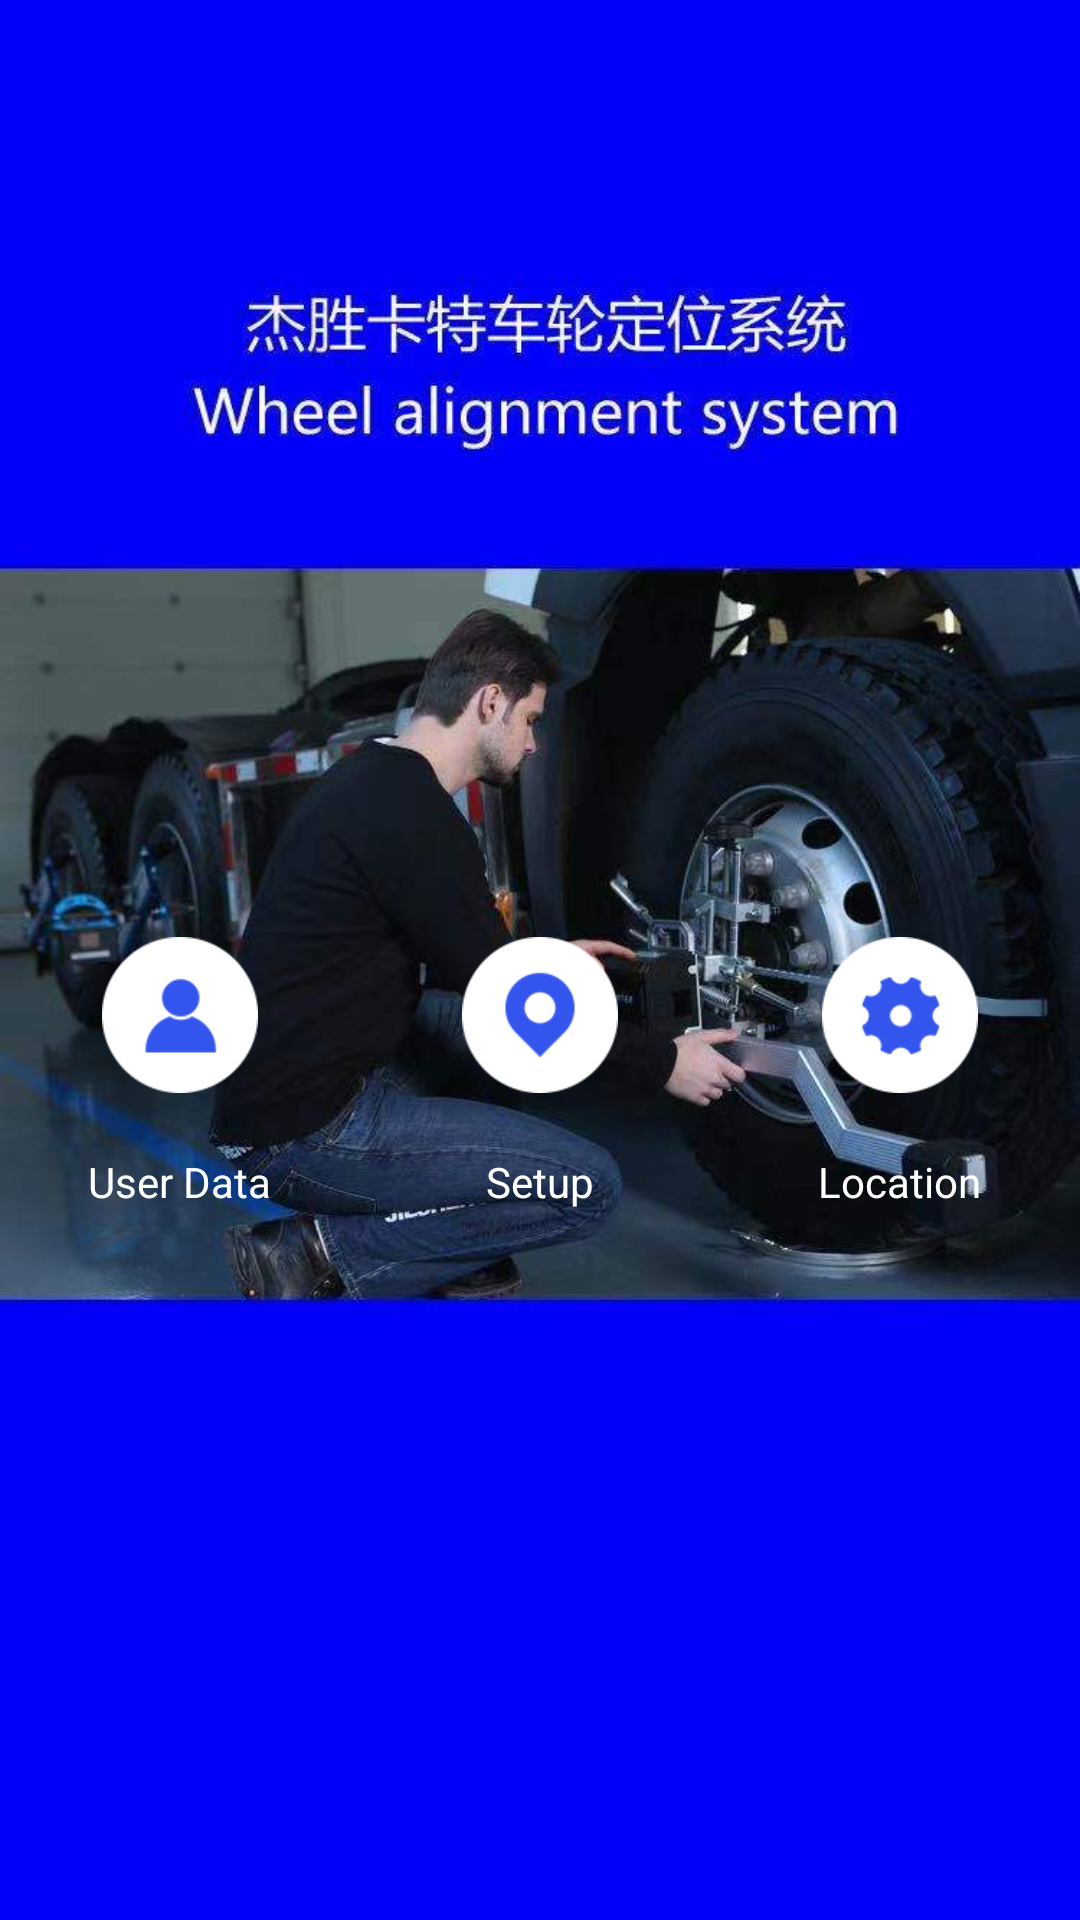

Named icons in this screenshot (1080px×1920px) and their centers, (x=x, y=y):
location: (x=540, y=1015)
system: (x=900, y=1015)
